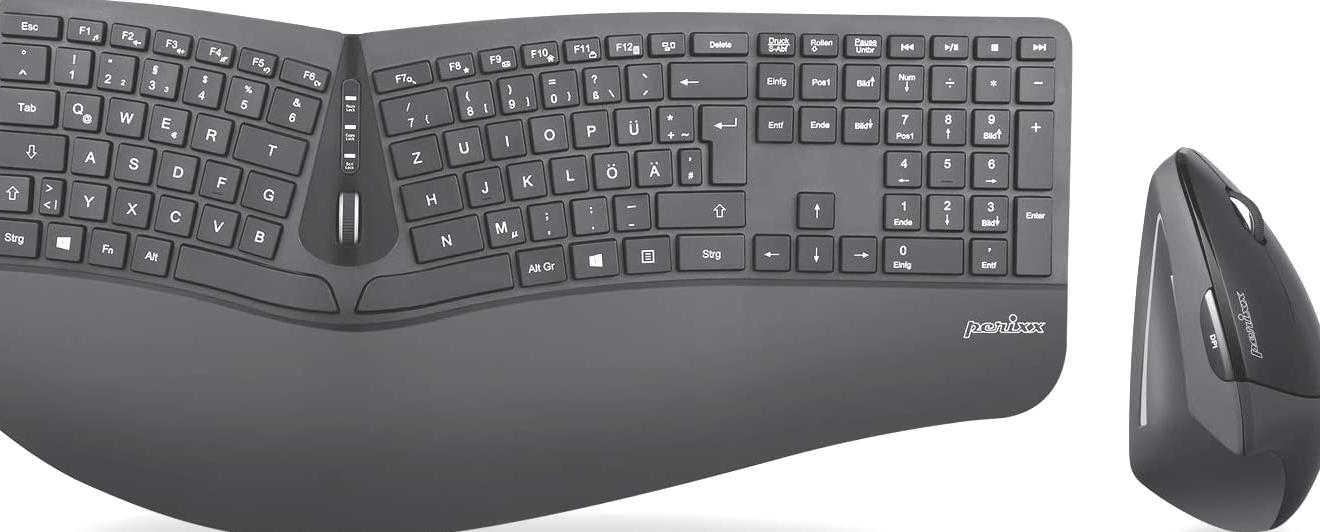0: (536, 65, 576, 106)
1: (51, 43, 91, 83)
2: (93, 48, 134, 89)
3: (137, 55, 179, 96)
4: (182, 63, 224, 104)
5: (224, 73, 267, 115)
6: (266, 84, 322, 132)
7: (377, 82, 452, 133)
8: (453, 77, 493, 118)
9: (494, 71, 534, 111)
a: (68, 134, 109, 174)
accent: (625, 59, 662, 98)
ae: (633, 144, 671, 184)
alt-left: (128, 231, 172, 274)
altgr-right: (515, 241, 567, 283)
b: (236, 211, 283, 256)
c: (153, 192, 196, 234)
caret: (1, 40, 46, 79)
comma: (526, 197, 565, 237)
d: (155, 146, 197, 190)
del: (666, 57, 746, 97)
e: (146, 100, 188, 142)
enter: (697, 99, 745, 183)
f: (198, 156, 241, 199)
g: (241, 167, 295, 216)
h: (398, 170, 462, 219)
hash: (675, 142, 701, 183)
i: (485, 116, 525, 156)
j: (463, 163, 503, 204)
k: (505, 156, 545, 197)
keyboard: (1, 7, 1070, 321)
l: (548, 151, 586, 191)
less: (35, 173, 63, 213)
m: (481, 203, 524, 245)
minus: (610, 189, 648, 228)
n: (408, 211, 485, 261)
o: (528, 110, 567, 150)
oe: (590, 147, 629, 187)
p: (570, 106, 608, 145)
plus: (654, 100, 692, 140)
point: (569, 193, 607, 231)
q: (58, 87, 100, 128)
r: (189, 109, 233, 152)
s: (112, 139, 153, 181)
shift-left: (1, 171, 30, 210)
shift-lock: (1, 129, 65, 169)
shift-right: (654, 186, 744, 225)
space: (173, 240, 335, 311), (361, 250, 514, 311)
ss: (579, 62, 619, 102)
strg-left: (1, 215, 39, 256)
strg-right: (674, 229, 745, 269)
t: (231, 118, 309, 172)
tab: (1, 84, 56, 124)
u: (442, 122, 484, 164)
ue: (612, 102, 651, 142)
v: (194, 201, 239, 244)
w: (103, 92, 145, 134)
x: (110, 184, 152, 225)
y: (67, 178, 107, 218)
z: (388, 131, 442, 176)
